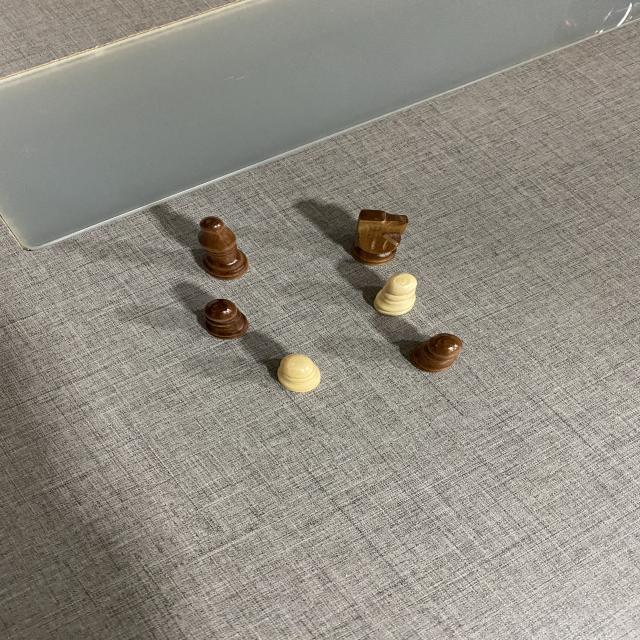Black-Bishop: (197, 216, 250, 280)
Black-Knight: (351, 208, 410, 267)
Black-Pawn: (408, 332, 466, 373), (203, 298, 250, 341)
White-Pawn: (372, 272, 418, 316), (276, 353, 322, 393)
